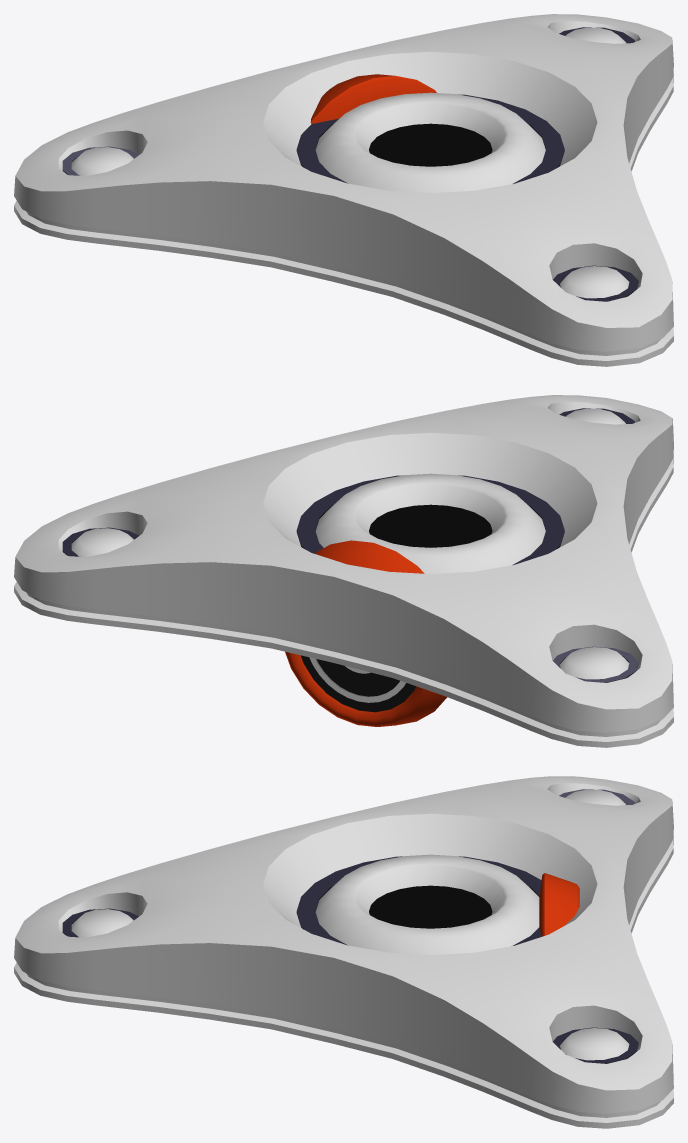
The model's file is SM_powerButton.fbx.
3 renders of one model, top to bottom at view 1: azimuth 30°, elevation 25°; view 2: azimuth 150°, elevation 25°; view 3: azimuth 270°, elevation 25°, orthographic.
Visible parts, largest first — view 1: SM_buttonBase, SM_buttonBaseGlow, SM_powerButton; view 2: SM_buttonBase, SM_powerButton, SM_buttonBaseGlow, SM_powerButtonGlow; view 3: SM_buttonBase, SM_buttonBaseGlow, SM_powerButton.
Boxes of the visible parts, x1,y1,x2,y2 form: SM_buttonBase: (14,14,673,366); SM_buttonBaseGlow: (62,27,638,301); SM_powerButton: (310,74,436,123); SM_buttonBase: (14,395,673,747); SM_powerButton: (285,540,447,726); SM_buttonBaseGlow: (62,408,638,682); SM_powerButtonGlow: (309,657,405,702); SM_buttonBase: (14,776,673,1128); SM_buttonBaseGlow: (62,789,638,1063); SM_powerButton: (539,873,579,936).
Size of the model in its own units: 13.3 by 3.58 by 11.86.
